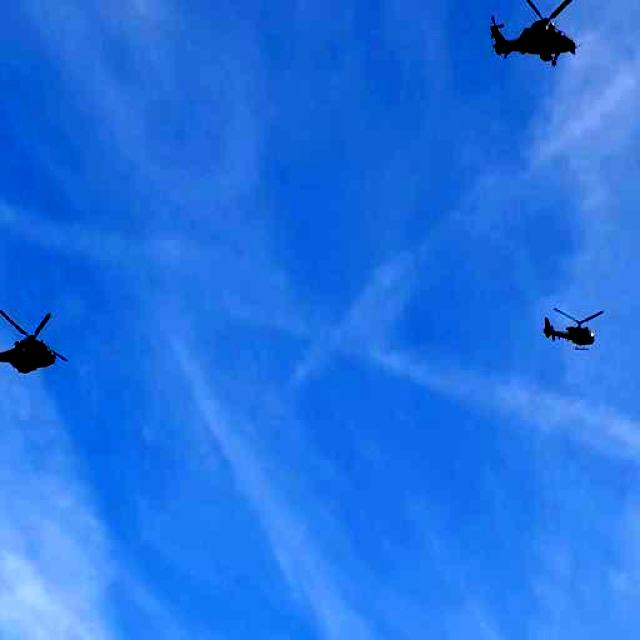drone: (479, 0, 590, 92), (0, 306, 72, 395), (539, 294, 608, 362)
